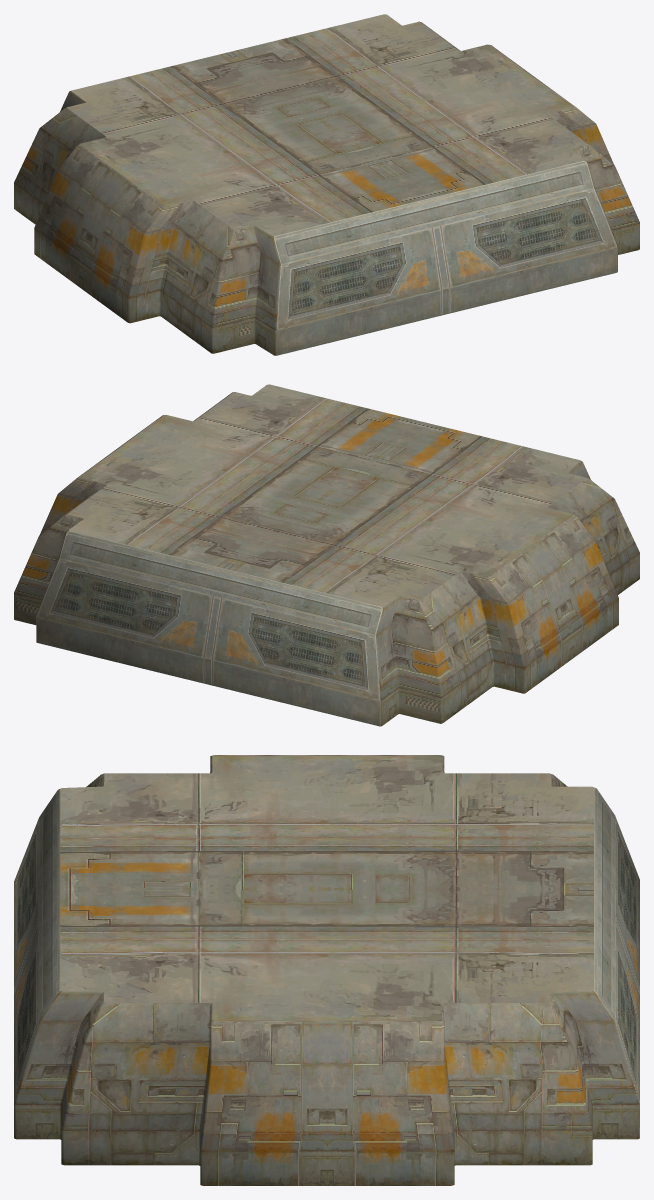
Rendered from hut_arch_industrial_platform.glb.
The picture shows the model from 3 angles, top to bottom: view 1: azimuth 30°, elevation 25°; view 2: azimuth 150°, elevation 25°; view 3: azimuth 270°, elevation 25°; orthographic projection. The views are drawn at different scales.
Visible parts, largest first — view 1: hut_arch_industrial_platform; view 2: hut_arch_industrial_platform; view 3: hut_arch_industrial_platform.
Part boxes in pixels (box(x1,y1,x2,y2)): hut_arch_industrial_platform: box(14, 14, 639, 355); hut_arch_industrial_platform: box(14, 384, 639, 726); hut_arch_industrial_platform: box(14, 755, 639, 1185).
Size of the model in its own units: 2.15 by 0.4317 by 1.78.
Materials: 2 (2 with a texture image).
